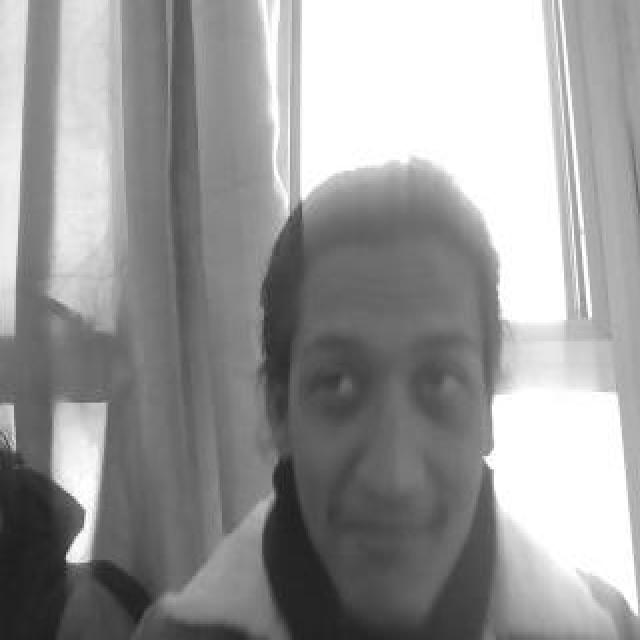Focused: (286, 236, 486, 633)
